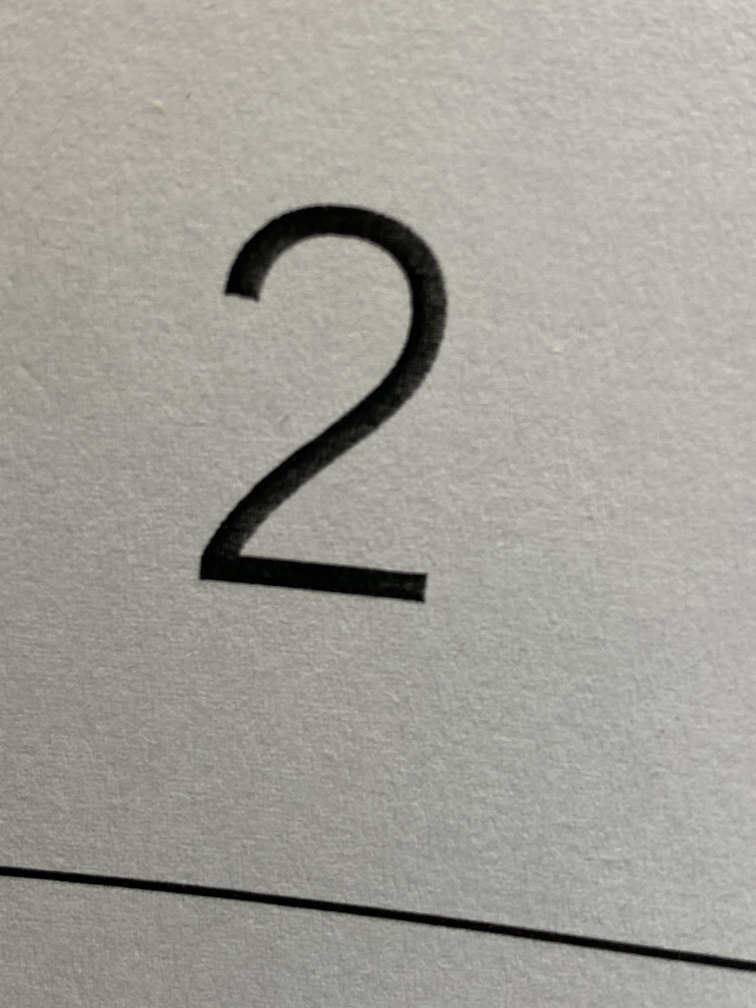two: (159, 166, 514, 658)
